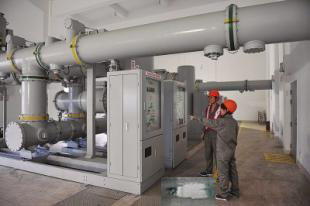oil: (162, 176, 214, 203)
